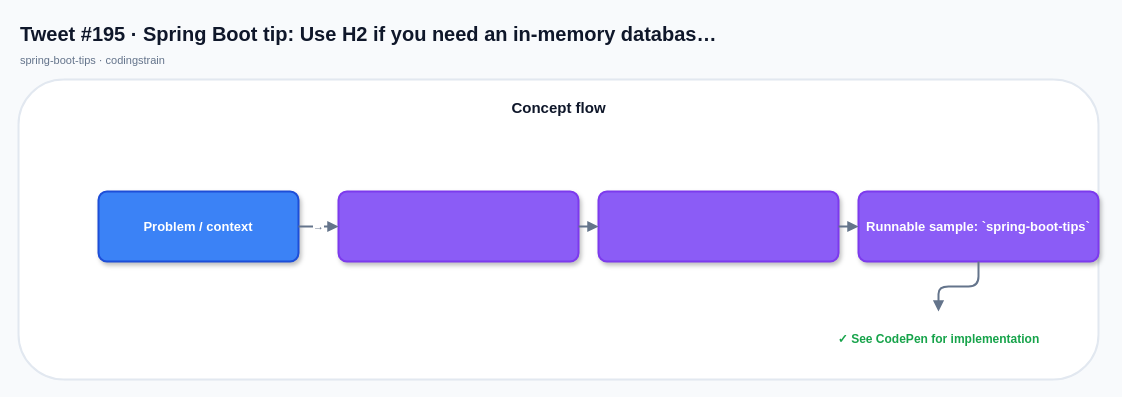
This 1122x397 diagram has some shape labels left out. Each missing label, with the centre of its shape:
#SpringBoot #Java: pixel 719 227
💡Spring Boot tip: Use H2 if you need an in-memory database for dev/t: pixel 459 227
